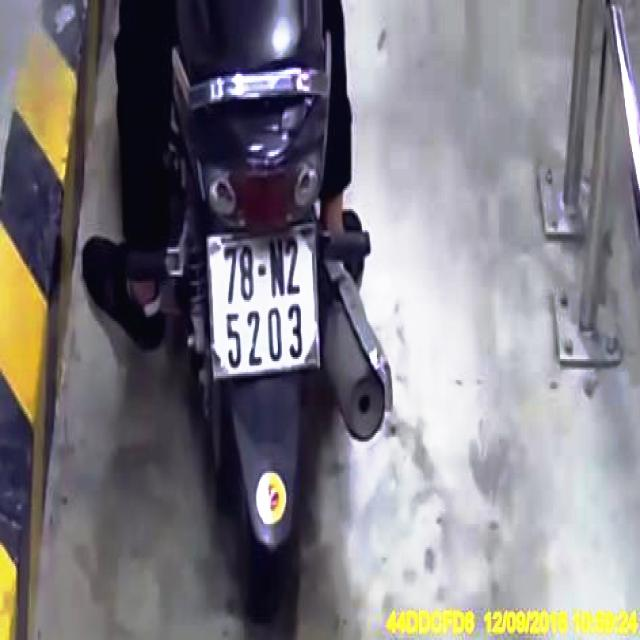license_plate: (210, 230, 324, 375)
